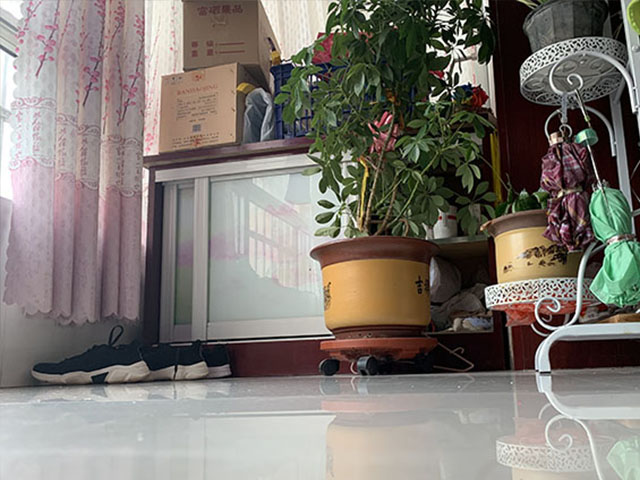cabinet: (140, 130, 361, 375)
curtain: (4, 4, 140, 325)
